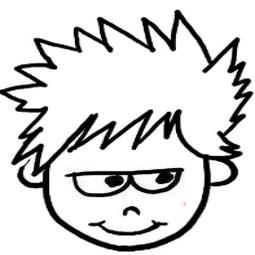ear: (205, 157, 241, 192), (12, 164, 49, 192)
eye: (130, 166, 191, 198), (69, 168, 131, 199)
mouth: (86, 216, 169, 236)
nose: (120, 203, 143, 218)
